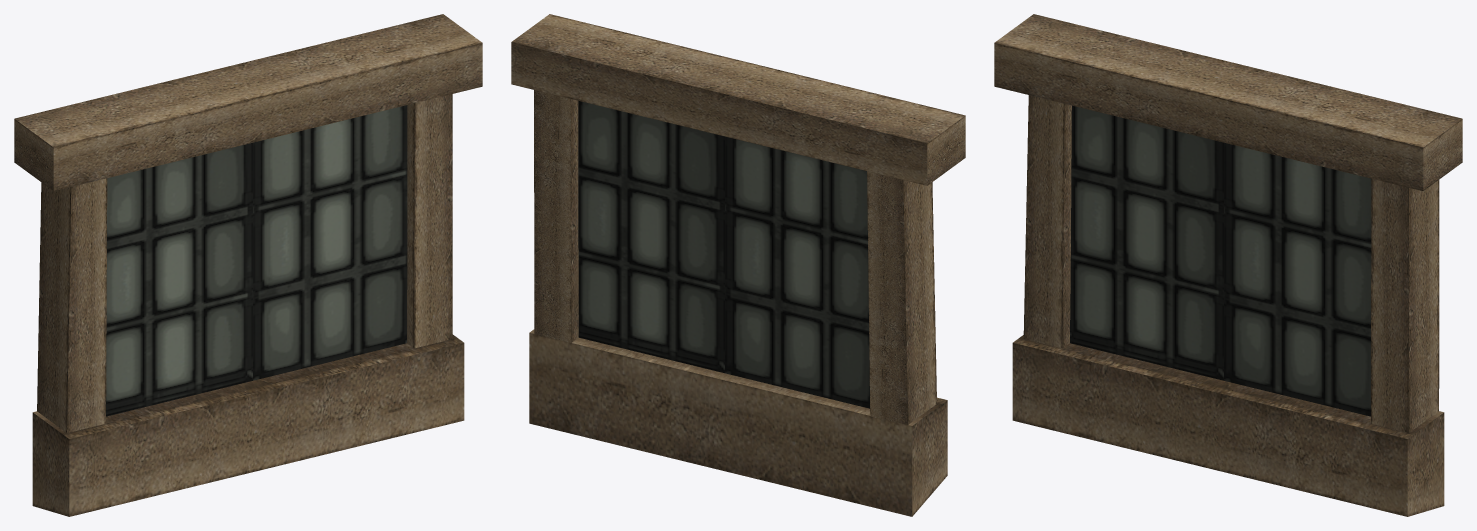
File: Window_11.fbx
3 renders of one model, left to right at view 1: azimuth 30°, elevation 25°; view 2: azimuth 150°, elevation 25°; view 3: azimuth 330°, elevation 25°, orthographic. The views are drawn at different scales.
Parts seen in each view (by area): view 1: Window_11; view 2: Window_11; view 3: Window_11.
Boxes of the visible parts, bbox=[...] form: Window_11: bbox=[14, 14, 482, 516]; Window_11: bbox=[511, 14, 965, 516]; Window_11: bbox=[994, 14, 1462, 516].
Size of the model in its own units: 2.76 by 2.4 by 0.4399.
